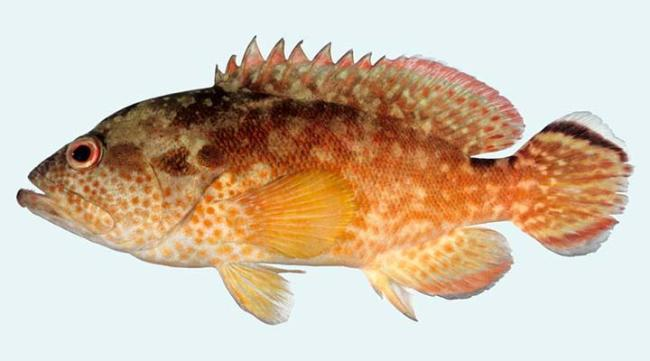fish: (17, 36, 634, 323)
